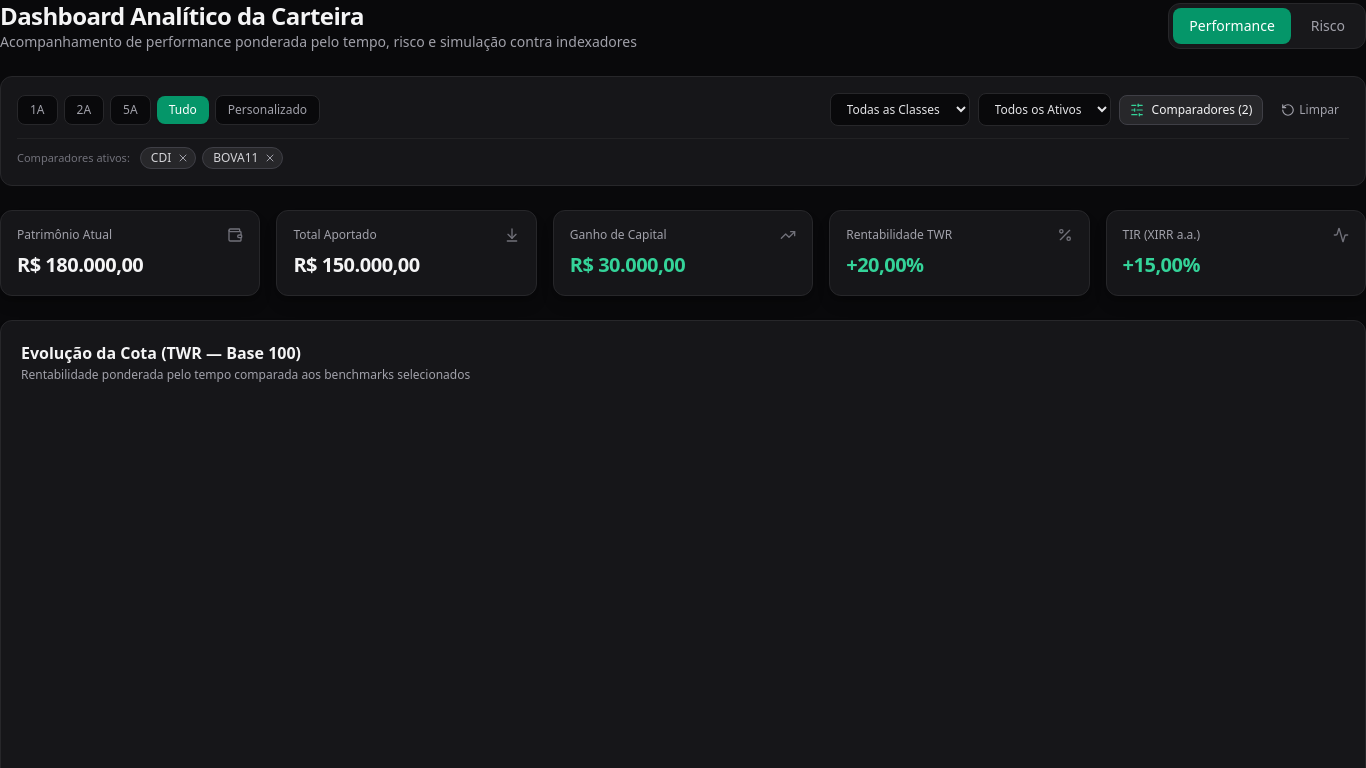
it: Gráficos da Aba Risco e PortfolioPage › PortfolioPage renderiza aba Performance por padrão e alterna para Risco sem recarregar rede
Expected: the heading "Evolução da Cota (TWR — Base 100)" is shown, 21,342 -> 301,364
Click the tab "Risco": x=1328, y=26 1295,8 -> 1361,44
(page scrolled)
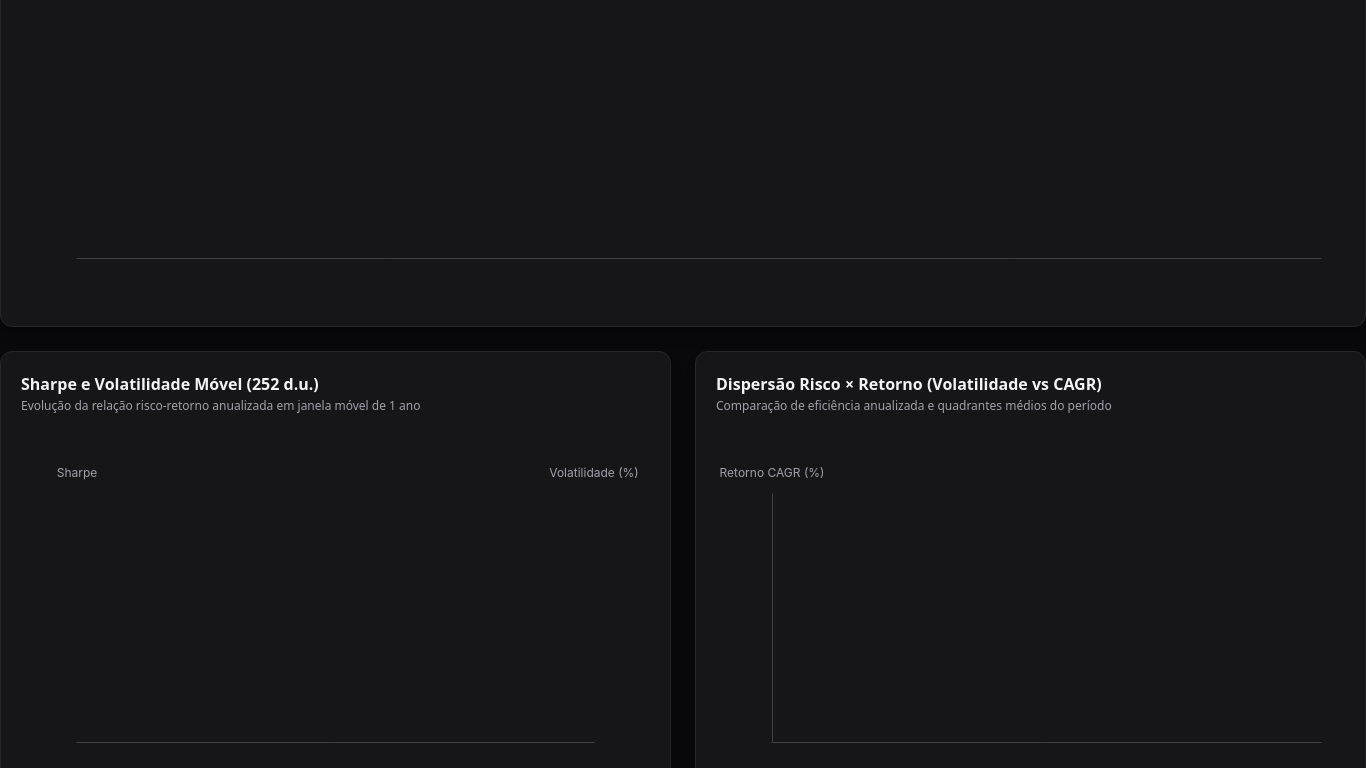
Expected: the heading "Sharpe e Volatilidade Móvel (252 d.u.)" is shown, 21,373 -> 319,395
Expected: the heading "Dispersão Risco × Retorno (Volatilidade vs CAGR)" is shown, 716,372 -> 1112,396
